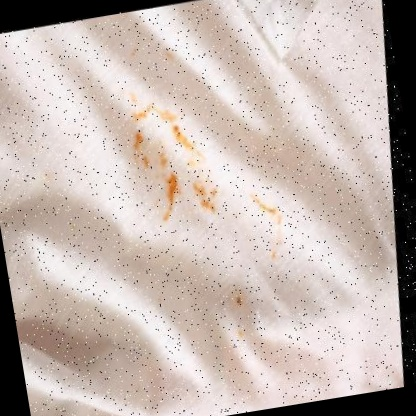kimchi: (102, 86, 233, 250), (239, 187, 303, 272), (223, 322, 253, 350), (222, 287, 248, 313), (160, 42, 180, 61), (128, 43, 141, 57)
